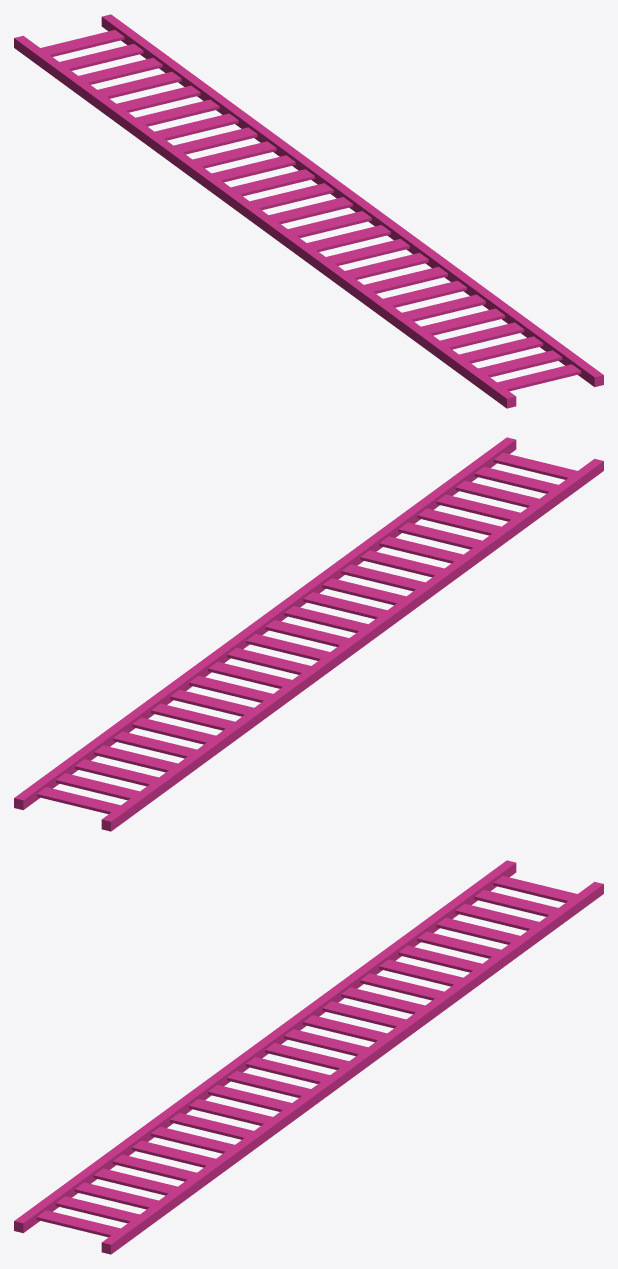
Rendered from Ladder_2.fbx.
3 renders of one model, top to bottom at view 1: azimuth 30°, elevation 25°; view 2: azimuth 150°, elevation 25°; view 3: azimuth 330°, elevation 25°, orthographic.
Parts seen in each view (by area): view 1: Ladder_2; view 2: Ladder_2; view 3: Ladder_2.
Boxes of the visible parts, box(x1,y1,x2,y2) form: Ladder_2: box(14, 14, 603, 408); Ladder_2: box(14, 437, 603, 831); Ladder_2: box(14, 860, 603, 1254).
Size of the model in its own units: 20.62 by 2 by 181.
